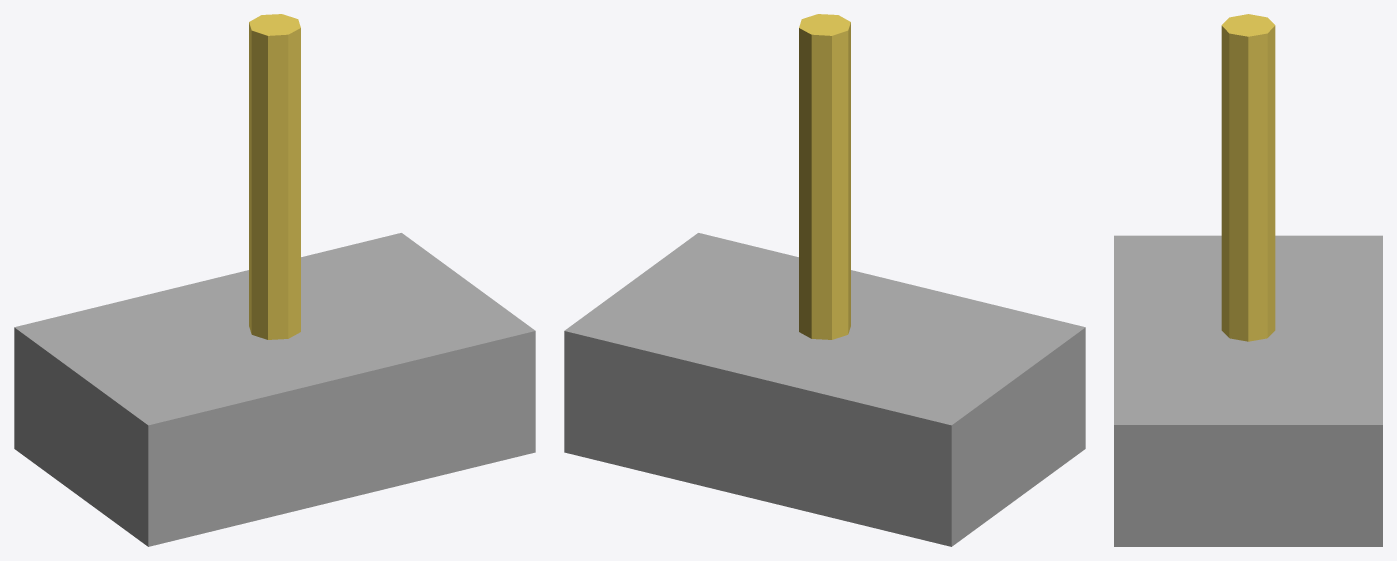
The model's file is bike_lane_separator.glb.
3 renders of one model, left to right at view 1: azimuth 30°, elevation 25°; view 2: azimuth 150°, elevation 25°; view 3: azimuth 270°, elevation 25°, orthographic.
Visible parts, largest first — view 1: base, post; view 2: base, post; view 3: base, post.
Boxes of the visible parts, bbox=[...] form: base: bbox=[14, 233, 535, 546]; post: bbox=[249, 14, 300, 339]; base: bbox=[564, 233, 1085, 546]; post: bbox=[799, 14, 850, 339]; base: bbox=[1114, 235, 1382, 546]; post: bbox=[1221, 14, 1275, 341].
Size of the model in its own units: 1 by 1.05 by 0.5996.
